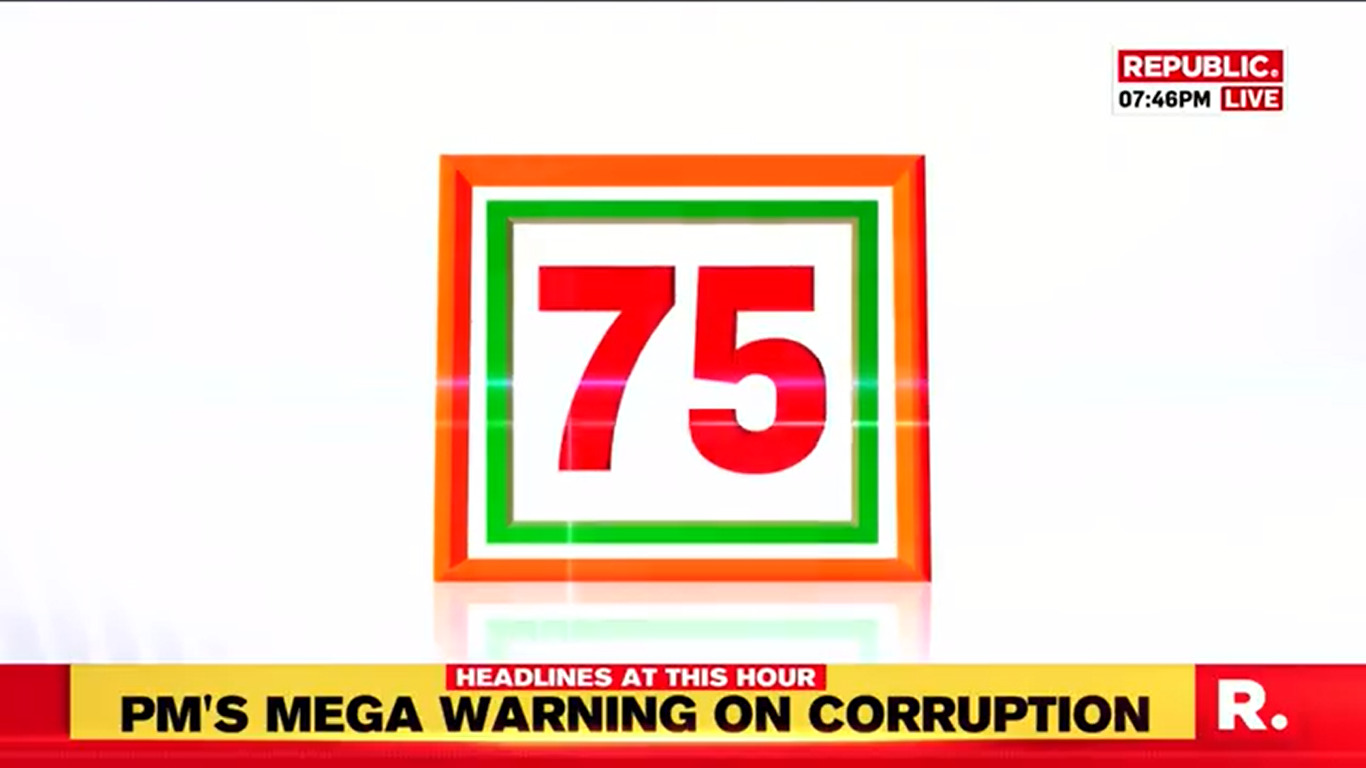Indi75: (441, 156, 937, 585)
